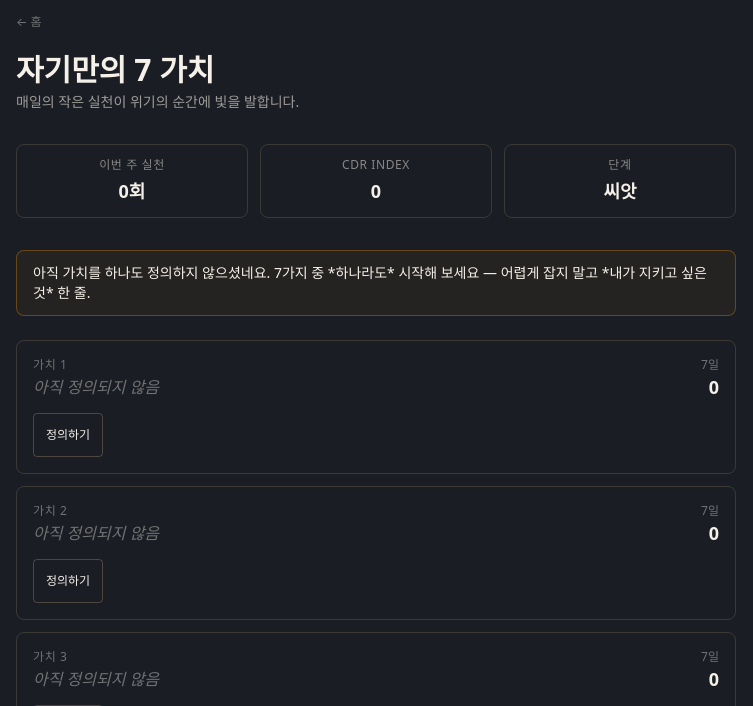
Test case: 가치 정의·수정 폼 › 취소하면 아무것도 보내지 않고 폼이 닫힌다
Click the 1st button "정의하기": [68, 435] box [33,413,103,457]
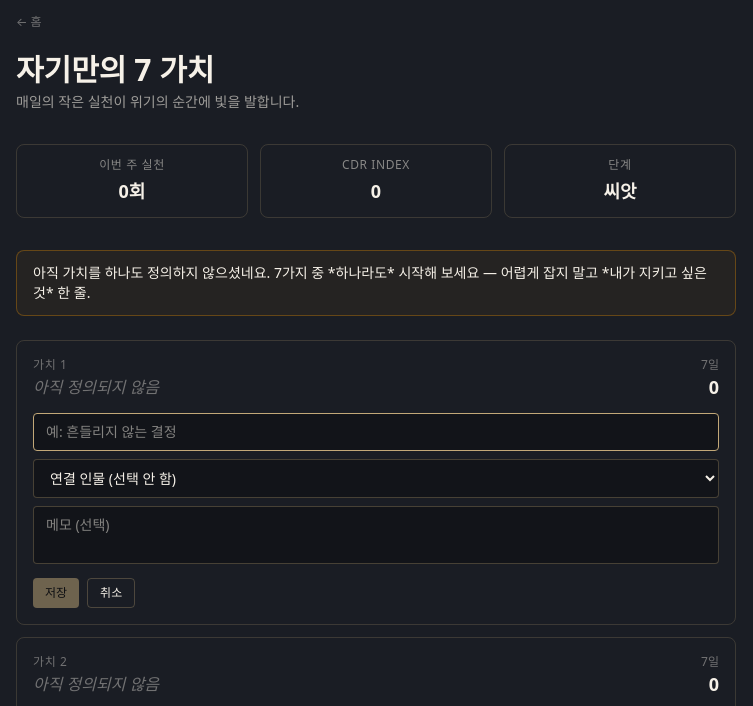
Click the button "취소": [111, 593] box [87,578,135,608]
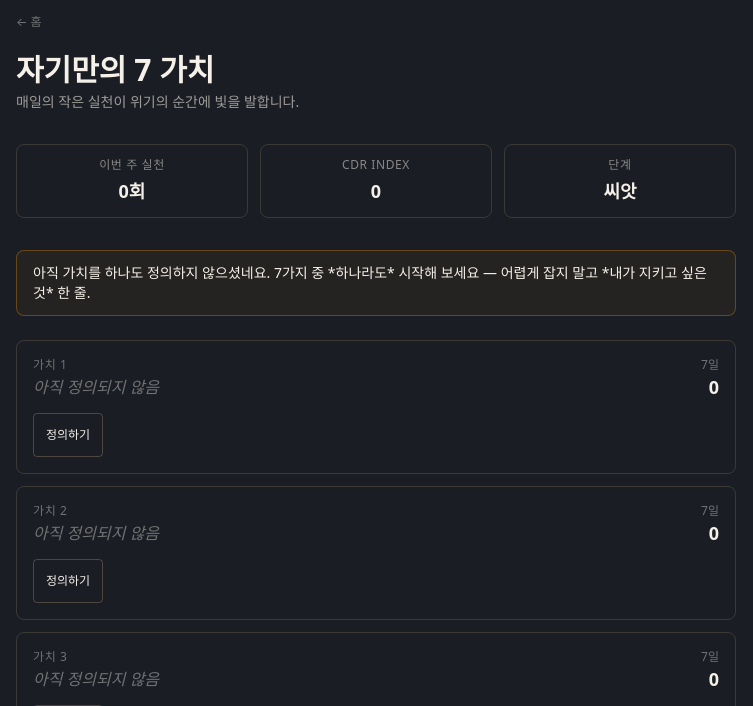
Result: the button "저장" is gone
Result: the number of buttons "정의하기" is 7
